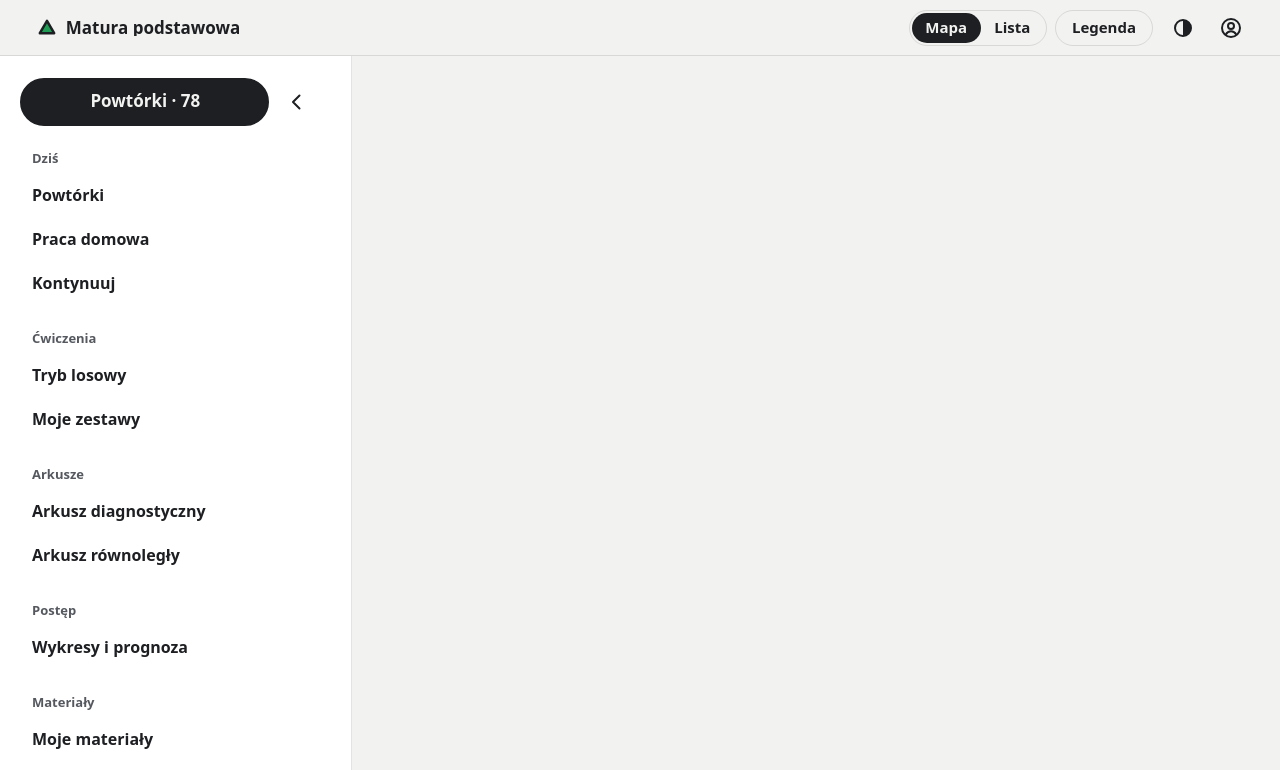
Test: ExamView list › swaps the map for the list and opens topics from it
This screenshot has width=1280, height=770.
Click the button "Lista" at (1012, 28), box [981, 12, 1044, 42]
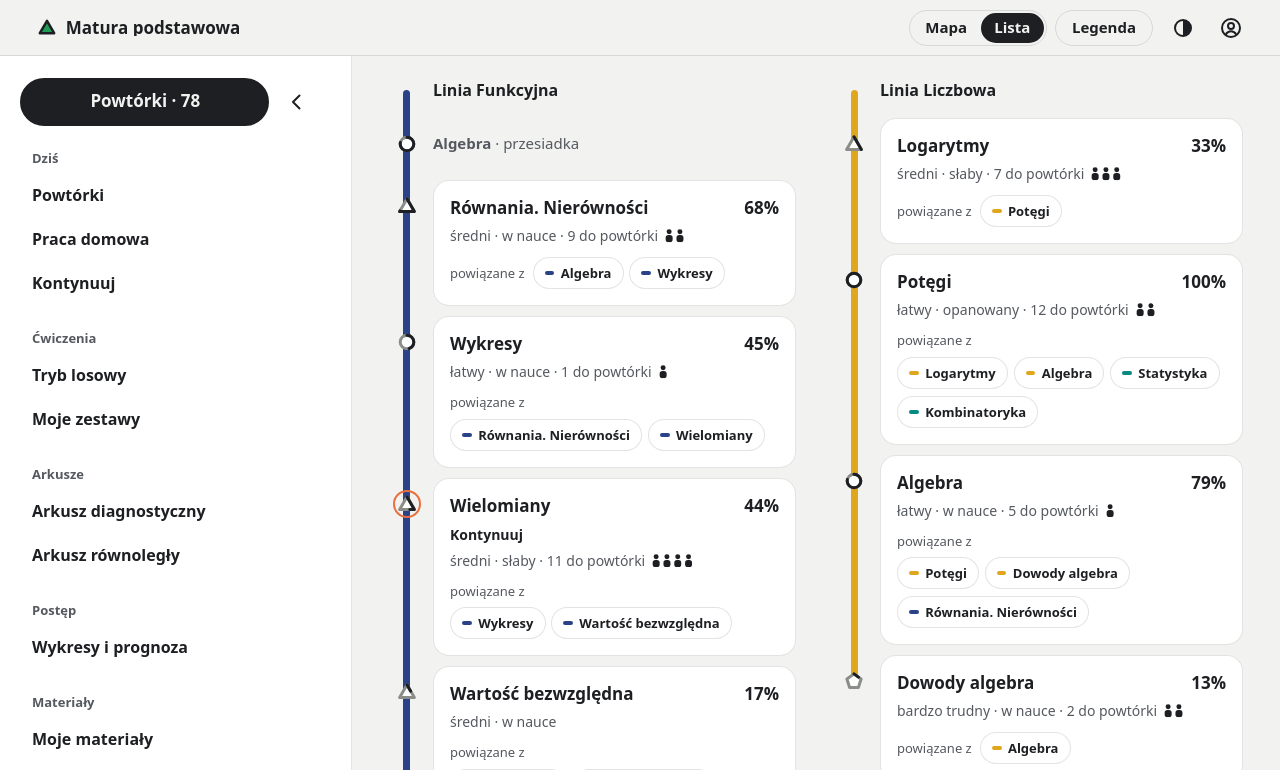
Now the button "Lista" is pressed, box [981, 12, 1044, 42]
Click the button "Wielomiany" in the row of "44%" at (500, 506), box [450, 495, 550, 516]
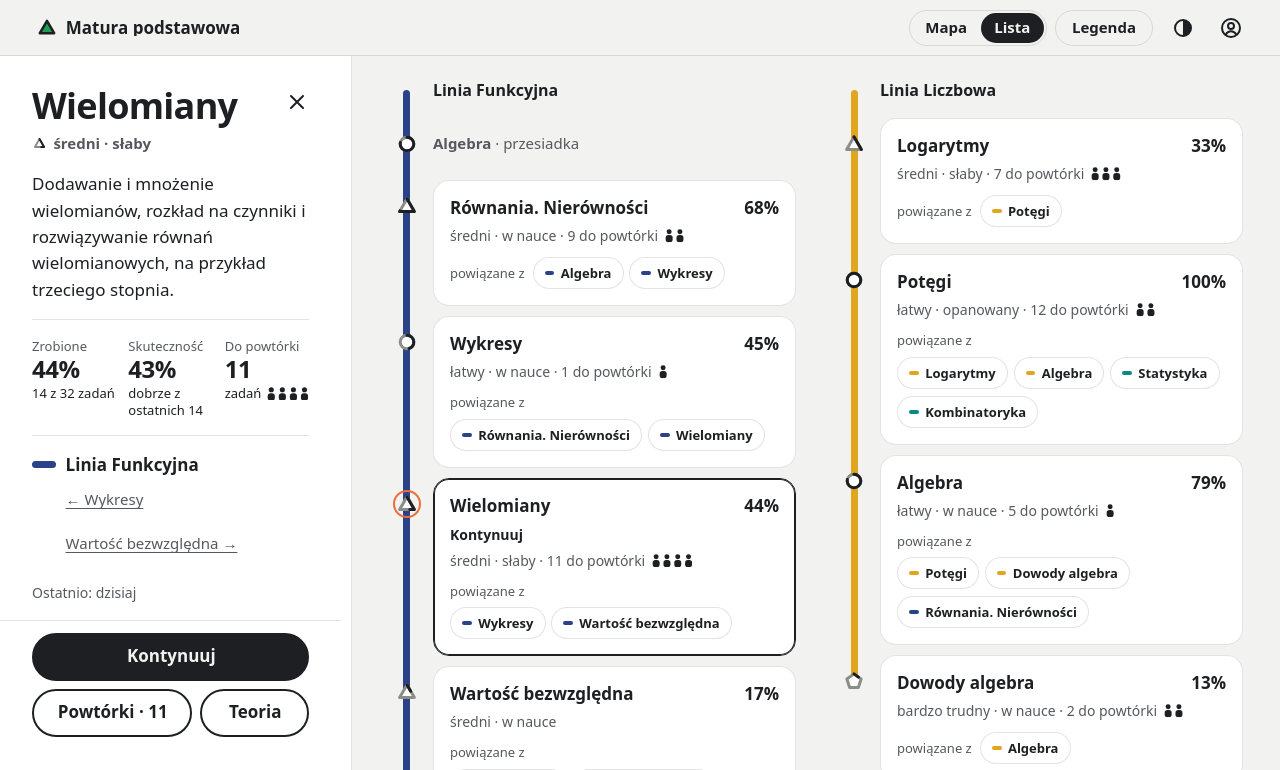
Now the 1st heading "Wielomiany" is shown, box [32, 88, 237, 124]
